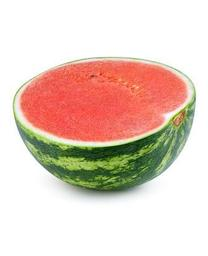watermelon: (13, 57, 196, 191)
